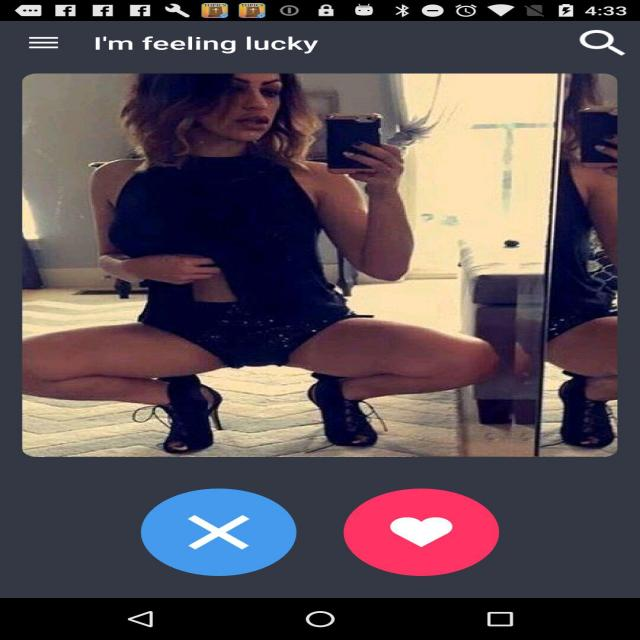button: (325, 495, 497, 587), (134, 493, 281, 576)
image: (25, 74, 620, 461)
